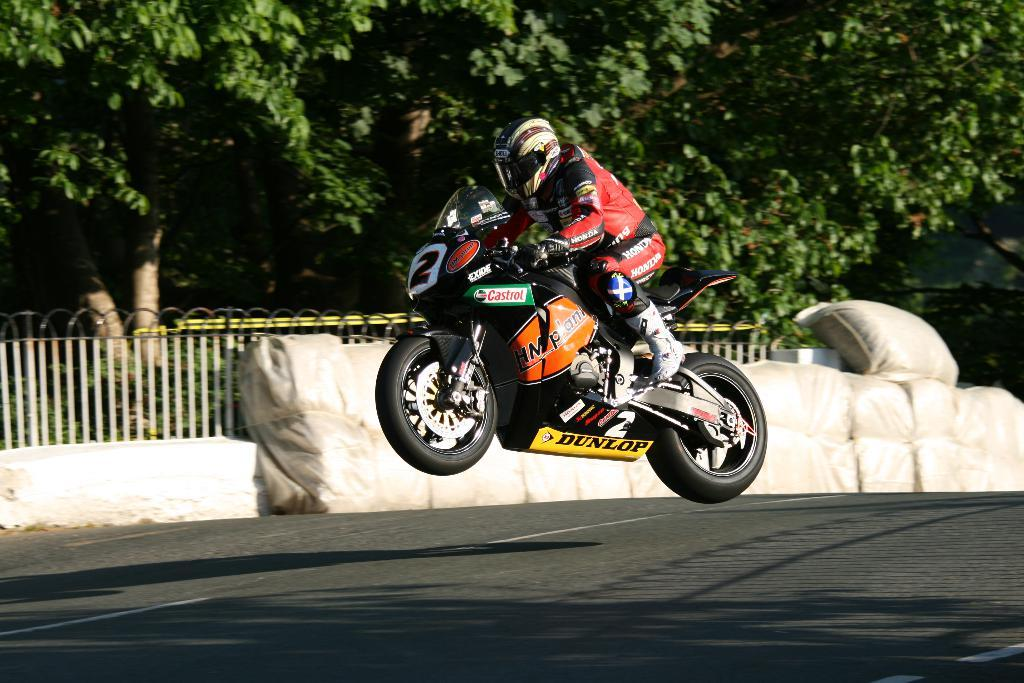helmet: (489, 116, 562, 201)
